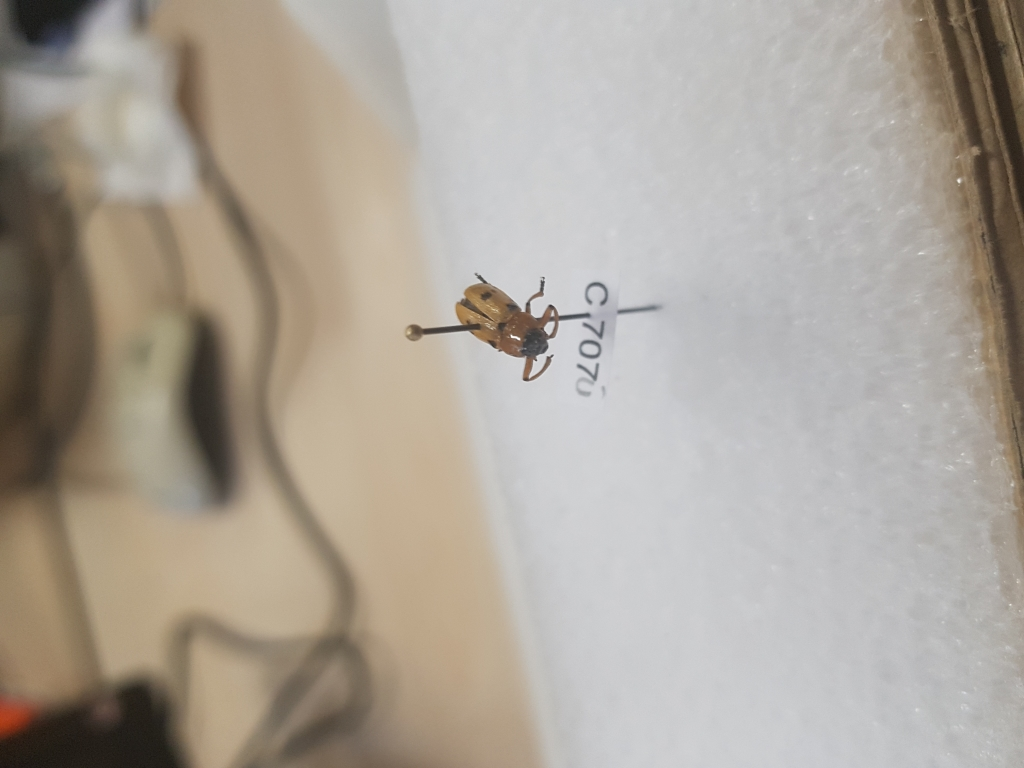Tituboea_macropus: (455, 270, 569, 383)
